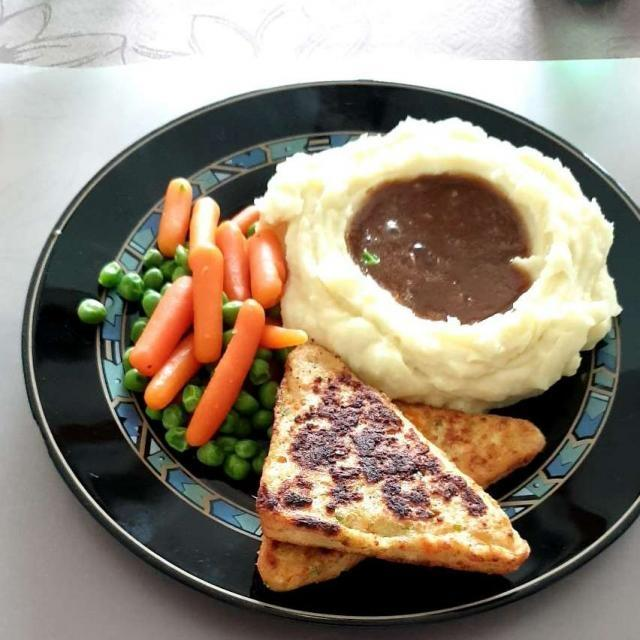mashed-potatoes: (275, 127, 615, 401)
sauce: (322, 162, 529, 318)
vegetables: (78, 171, 287, 472)
